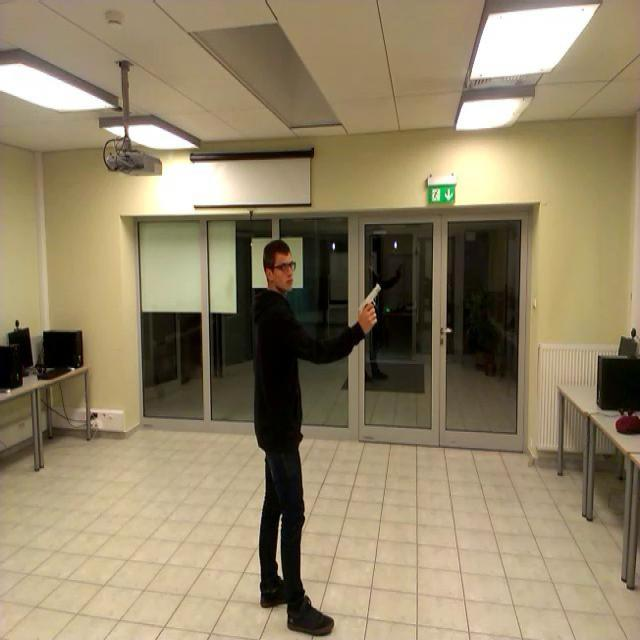weapon: (356, 284, 381, 328)
